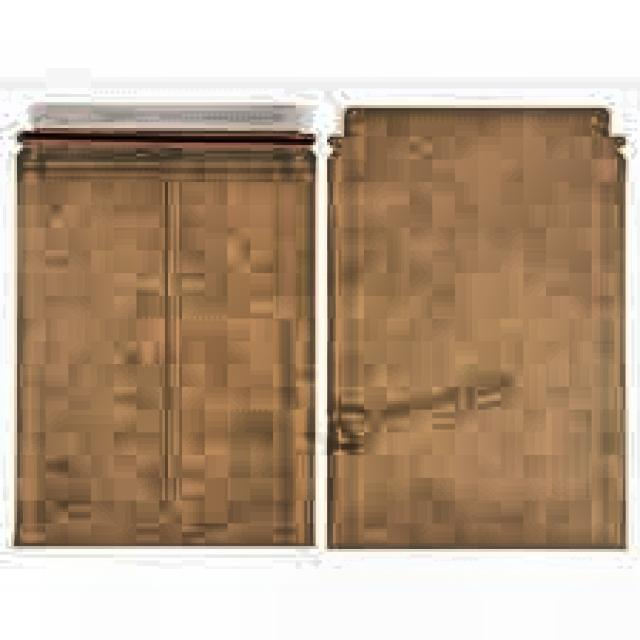cardboard: (324, 102, 626, 549), (11, 119, 316, 546)
